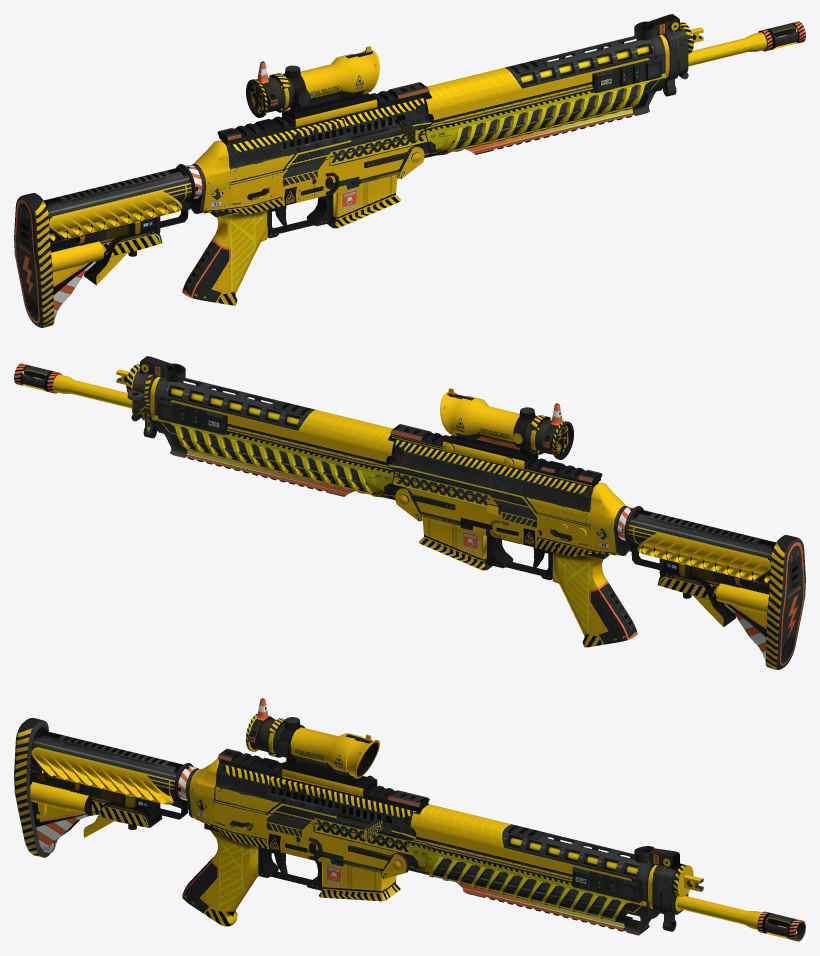
File: w_specialcarbine_caution.glb
The picture shows the model from 3 angles, top to bottom: view 1: azimuth 30°, elevation 25°; view 2: azimuth 150°, elevation 25°; view 3: azimuth 330°, elevation 25°; orthographic projection.
Visible parts, largest first — view 1: Gun_Root; view 2: Gun_Root; view 3: Gun_Root.
Part boxes in pixels (x1,y1,x2,y2): Gun_Root: (14, 14, 805, 327); Gun_Root: (14, 356, 805, 669); Gun_Root: (14, 698, 805, 941).
Size of the model in its own units: 0.8722 by 0.2498 by 0.0802.
Materials: 1 (1 with a texture image).
